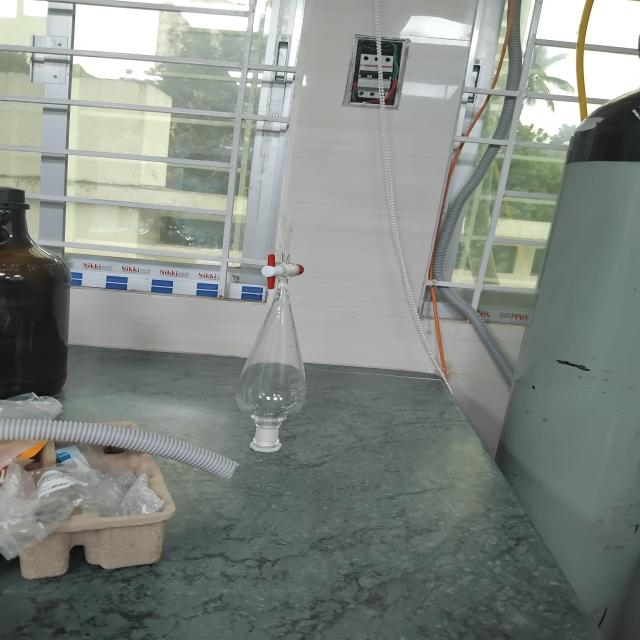Separating_Funnel: (200, 213, 346, 467)
